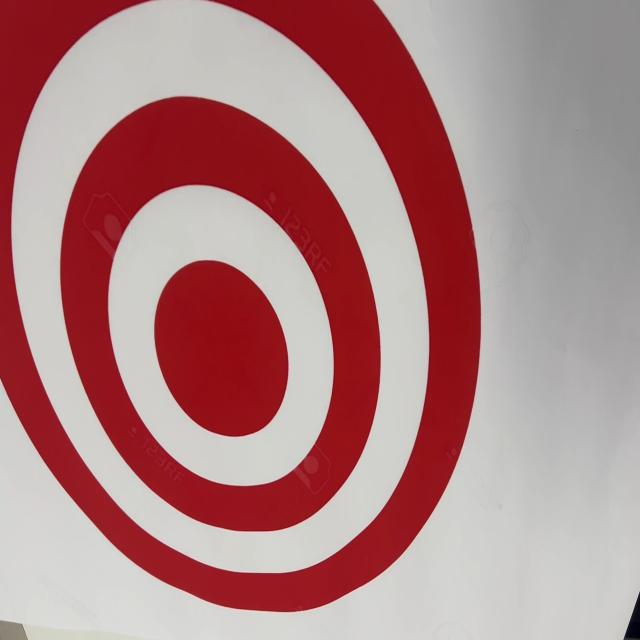target_red: (1, 3, 526, 640)
